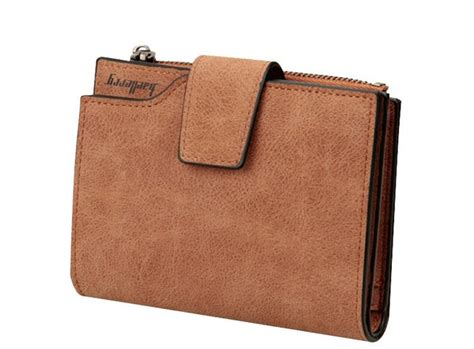gamuza: (69, 53, 401, 343)
